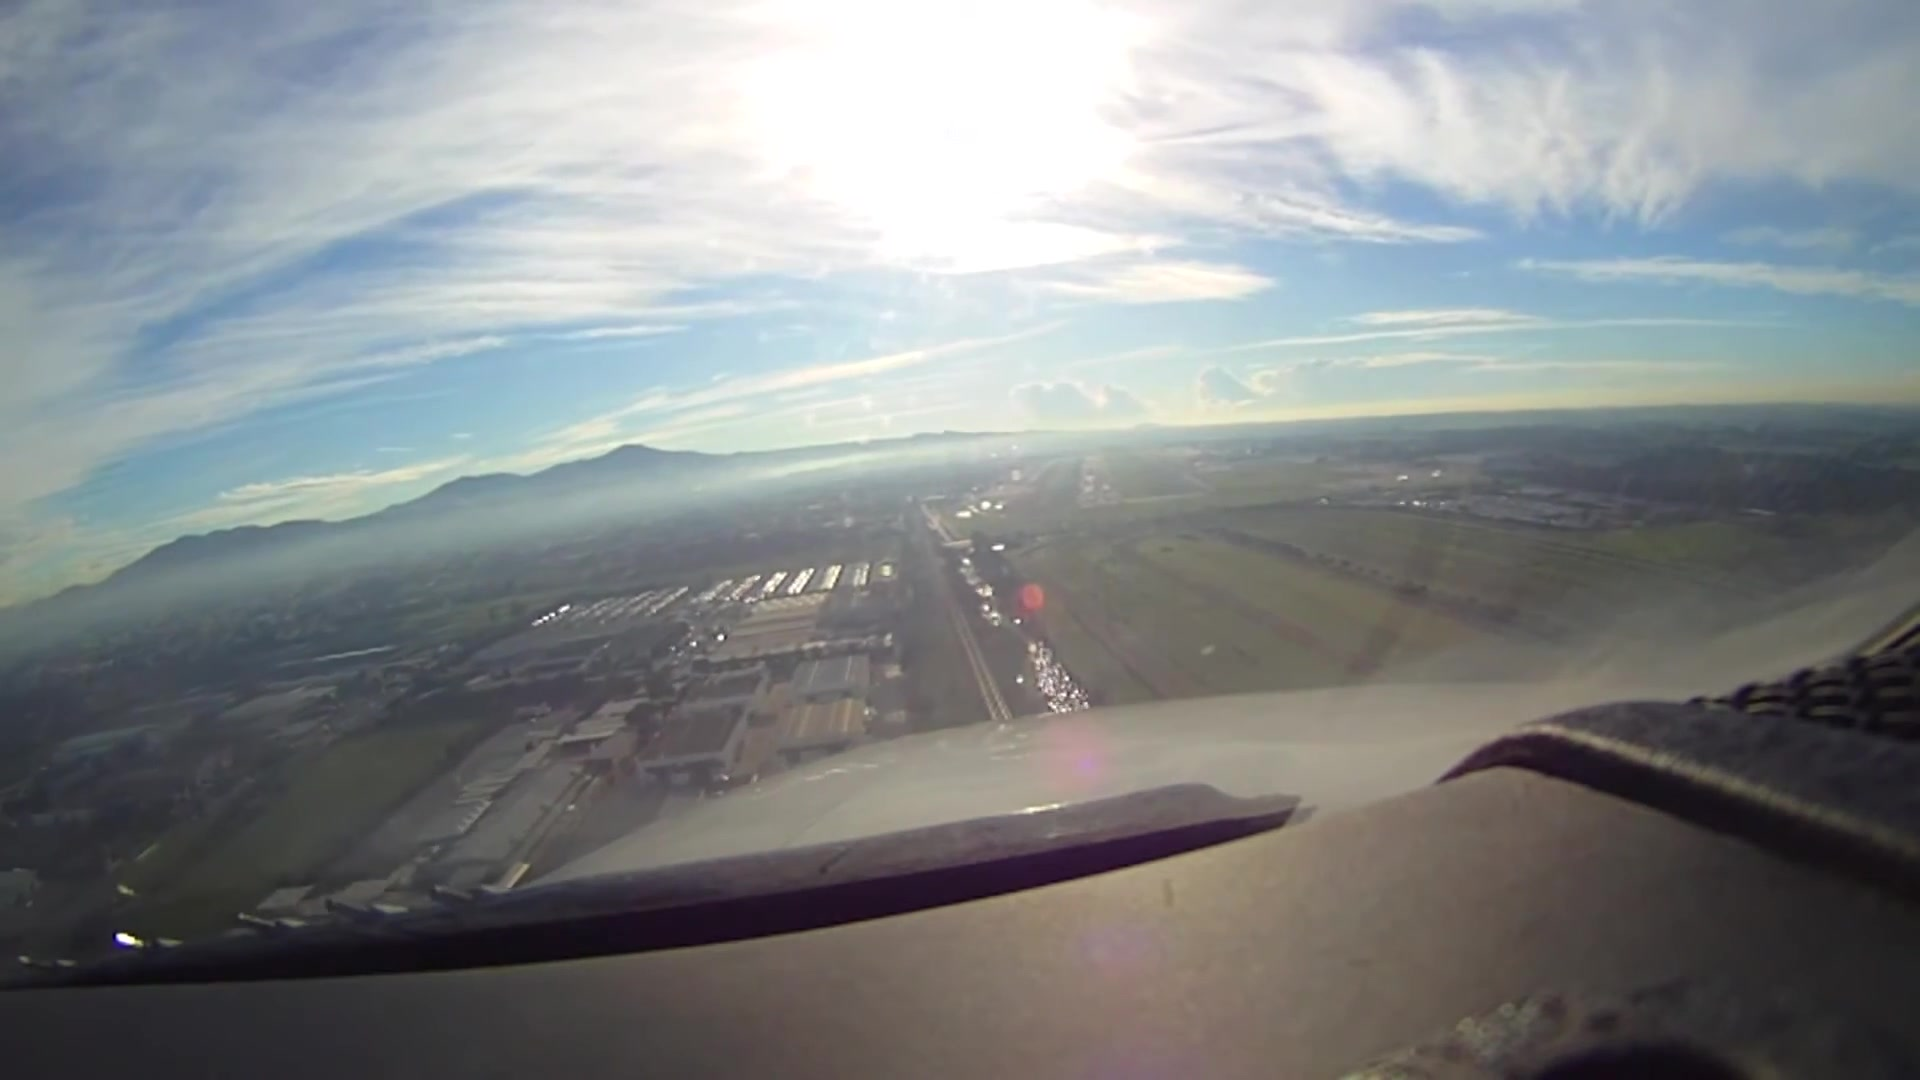runway: (1073, 458, 1118, 509)
